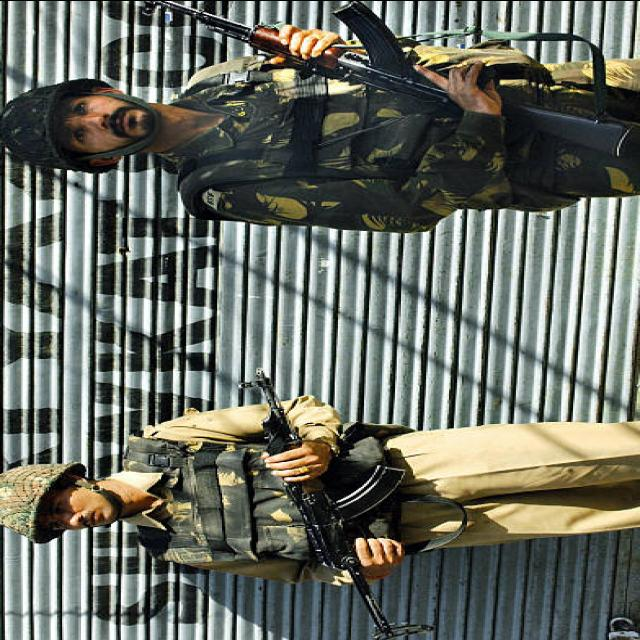soldier: (0, 370, 640, 638), (0, 0, 640, 231)
